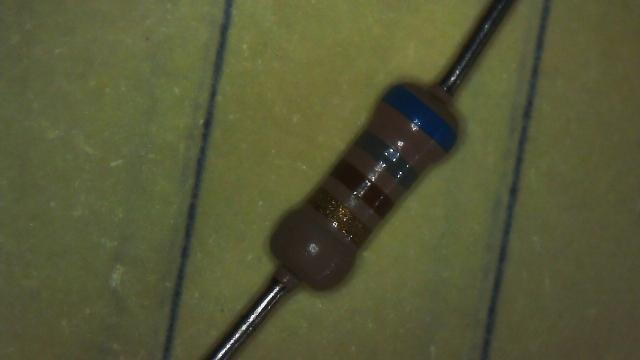blue: (382, 86, 458, 154)
brown: (331, 159, 394, 218)
gold: (310, 188, 370, 244)
grey: (356, 130, 418, 187)
resistor: (237, 60, 481, 325)
